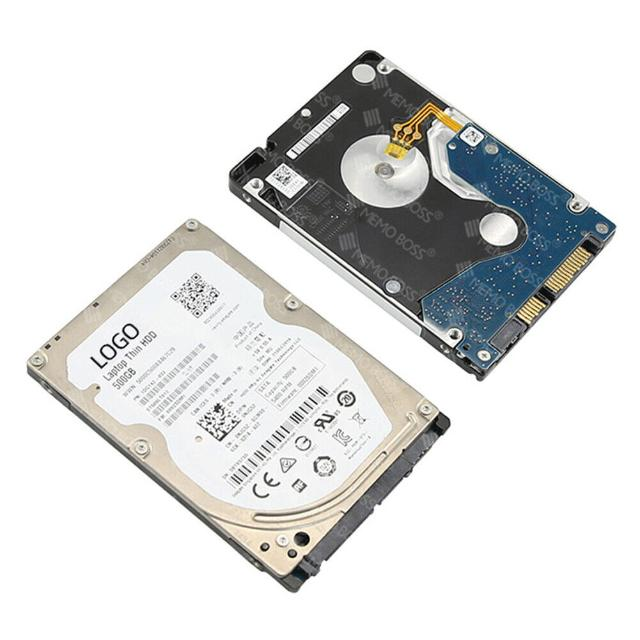HDD: (26, 220, 450, 594), (226, 51, 617, 383)
